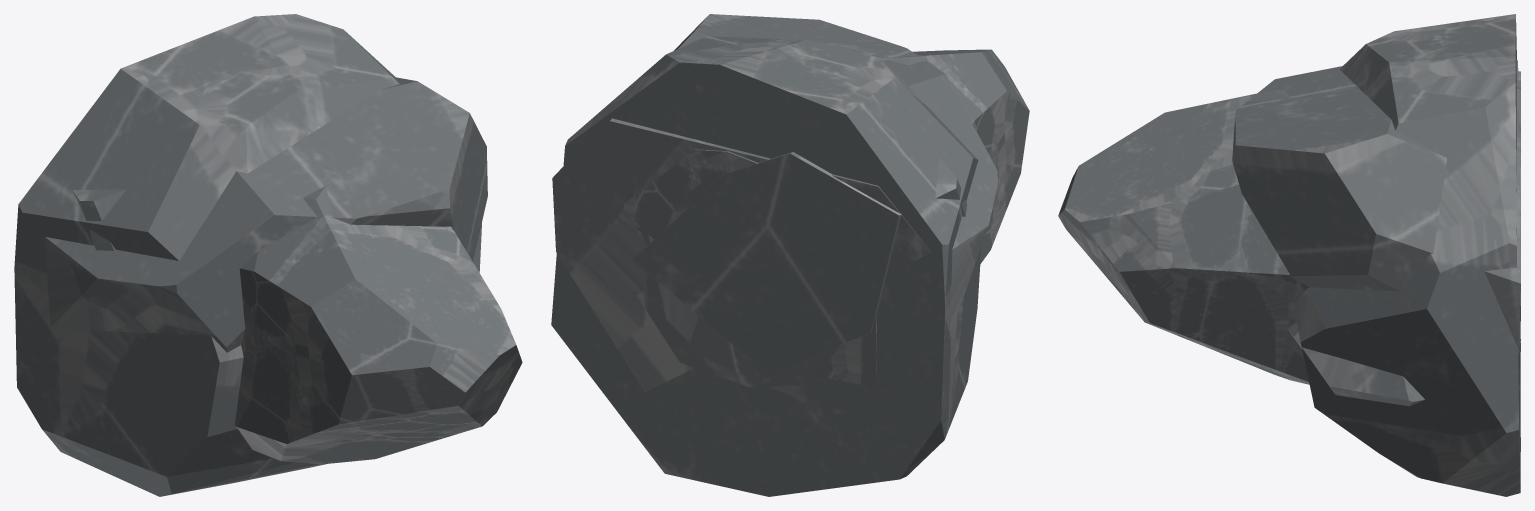
File: bruhrock 1.fbx
The picture shows the model from 3 angles, left to right: view 1: azimuth 30°, elevation 25°; view 2: azimuth 150°, elevation 25°; view 3: azimuth 270°, elevation 25°; orthographic projection. The views are drawn at different scales.
Visible parts, largest first — view 1: Cube.001; view 2: Cube.001; view 3: Cube.001.
Boxes of the visible parts, x1=… form: Cube.001: x1=14, y1=14, x2=522, y2=496; Cube.001: x1=551, y1=14, x2=1029, y2=496; Cube.001: x1=1058, y1=14, x2=1520, y2=496.
Size of the model in its own units: 1.34 by 1.37 by 1.37.
1 material, 1 textured.
